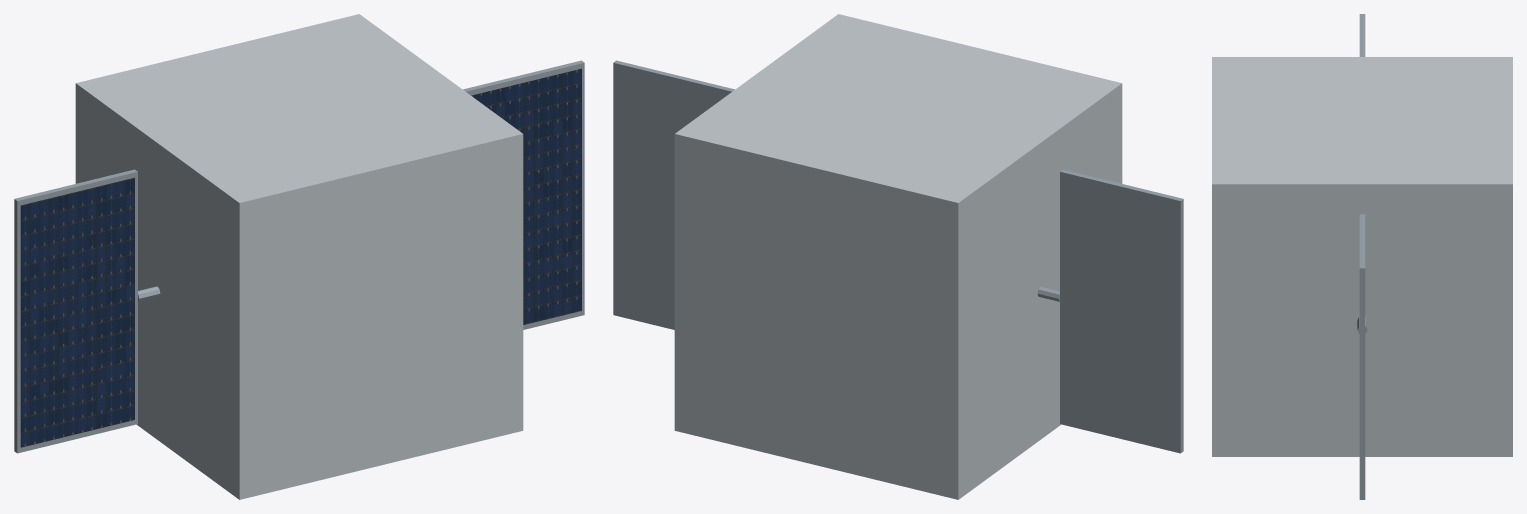
File: ref-shiyan-20a-sy-20a-54699.glb
The picture shows the model from 3 angles, left to right: view 1: azimuth 30°, elevation 25°; view 2: azimuth 150°, elevation 25°; view 3: azimuth 270°, elevation 25°; orthographic projection. The views are drawn at different scales.
Visible parts, largest first — view 1: Spacecraft body, Photovoltaic laminates (×2), Array frame (×2); view 2: Spacecraft body, Array frame (×2); view 3: Spacecraft body, Array frame.
Boxes of the visible parts, box(x1,y1,x2,y2) form: Spacecraft body: box(75, 14, 523, 499); Photovoltaic laminates (×2): box(20, 68, 581, 447); Array frame (×2): box(14, 60, 584, 453); Spacecraft body: box(674, 14, 1122, 499); Array frame (×2): box(613, 60, 1183, 453); Spacecraft body: box(1212, 57, 1512, 456); Array frame: box(1359, 214, 1365, 499).
Bounding box in the file's own units: 5 × 2.5 × 2.5.
3 materials, 1 textured.
